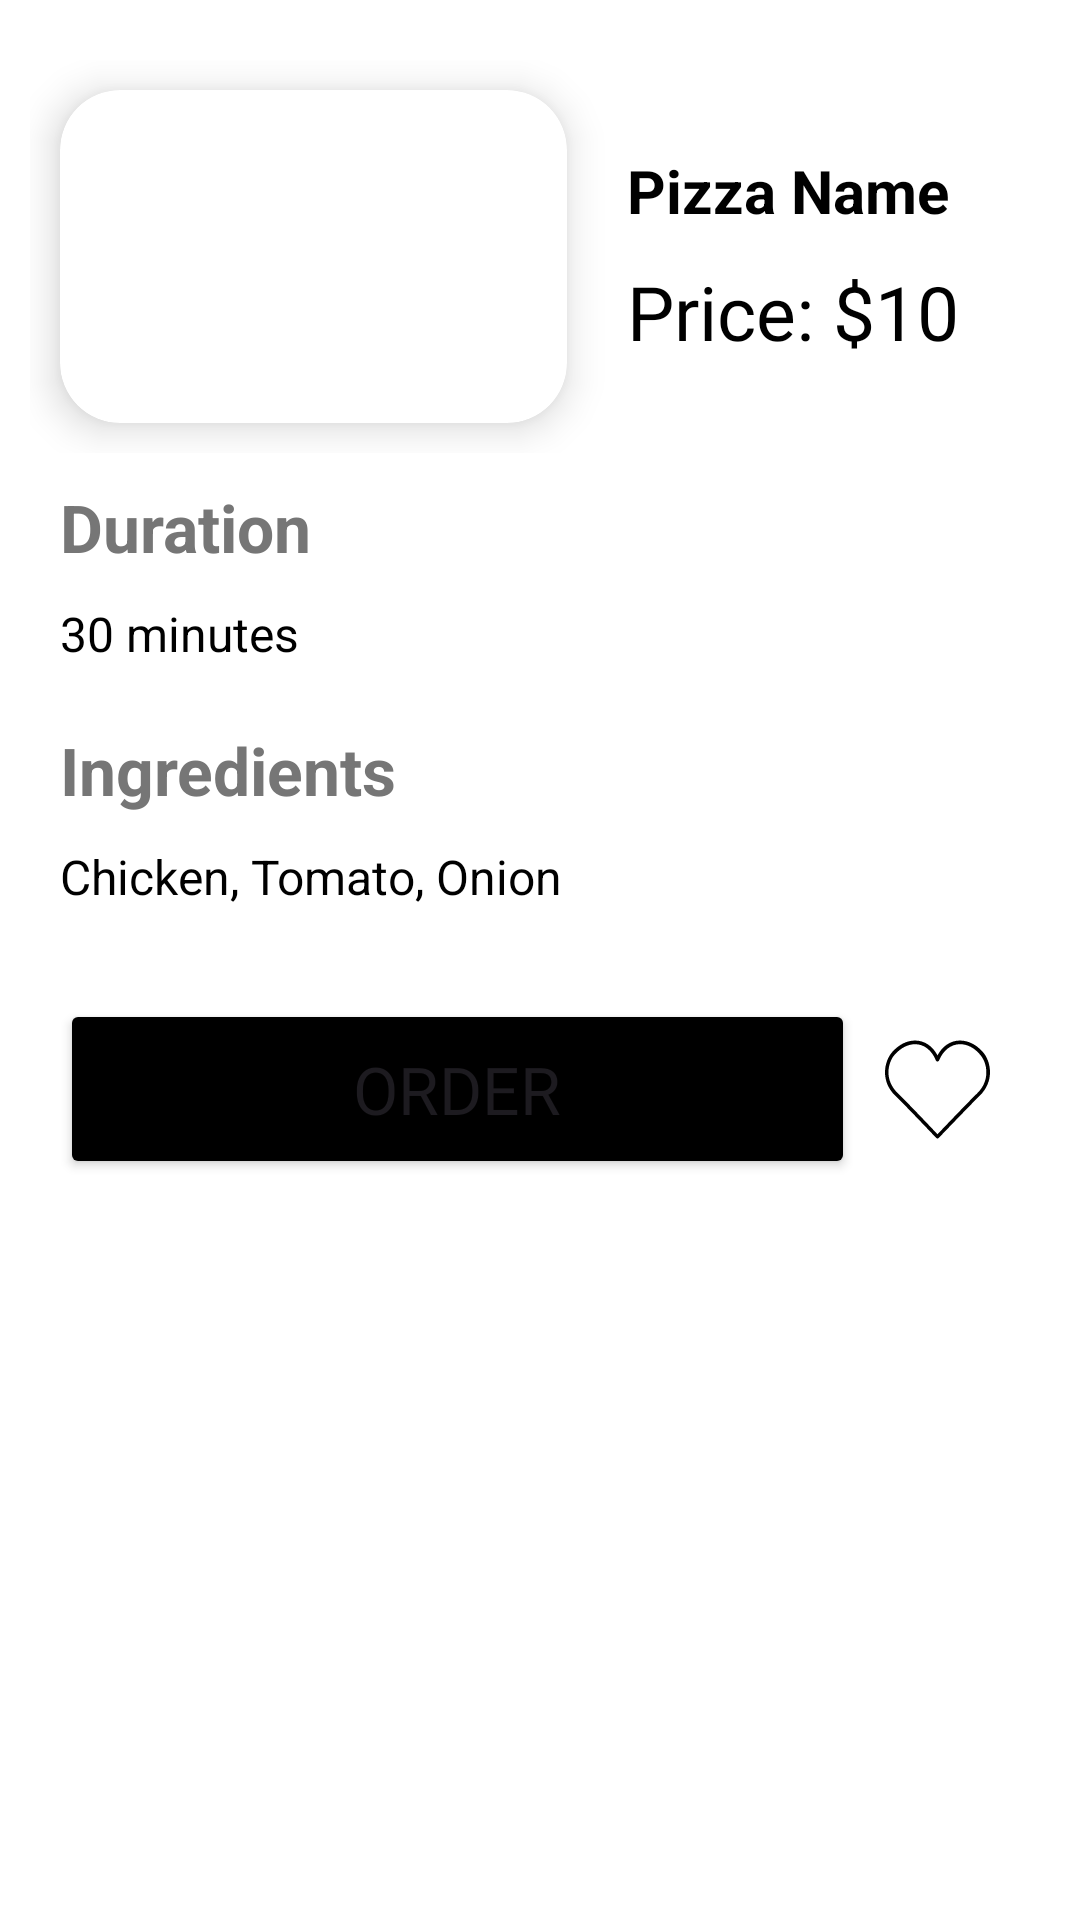

Icon click points for this 1080*1920 phone screenshot, format (x=x, y=y):
Add to Favorites: (x=937, y=1089)
